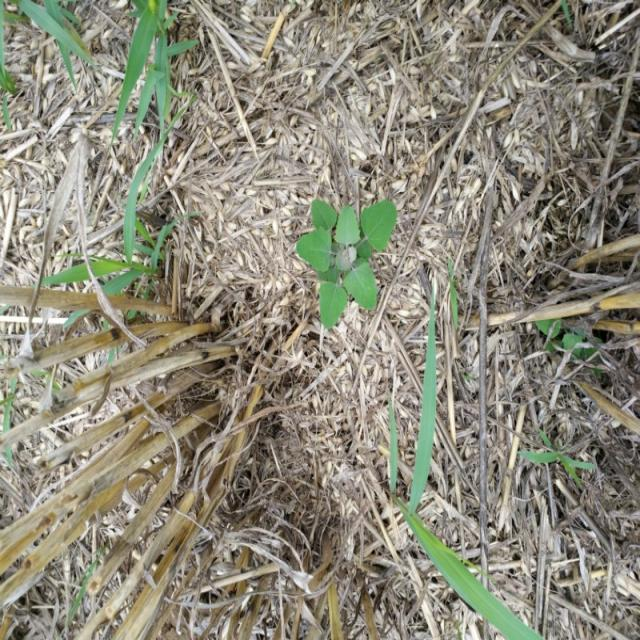goosefoots: (288, 178, 417, 351)
